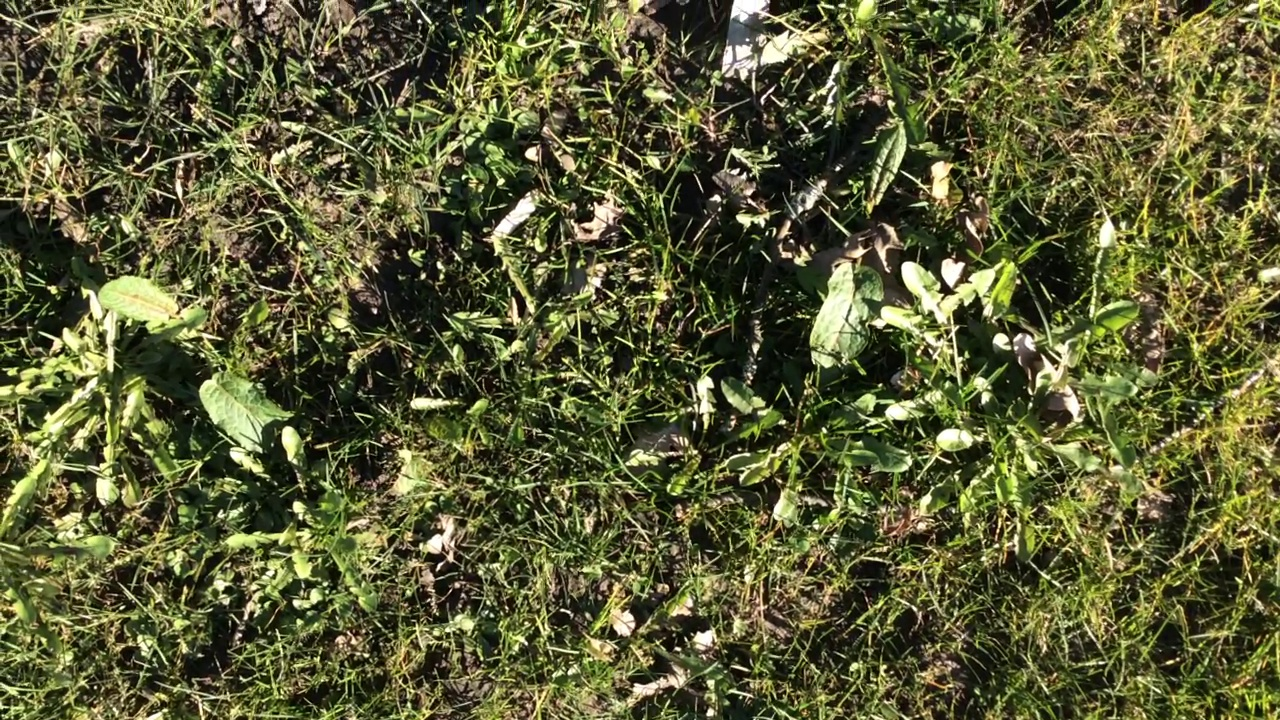rumex: (201, 375, 286, 464), (810, 264, 885, 363), (100, 281, 177, 327), (870, 121, 905, 207)
